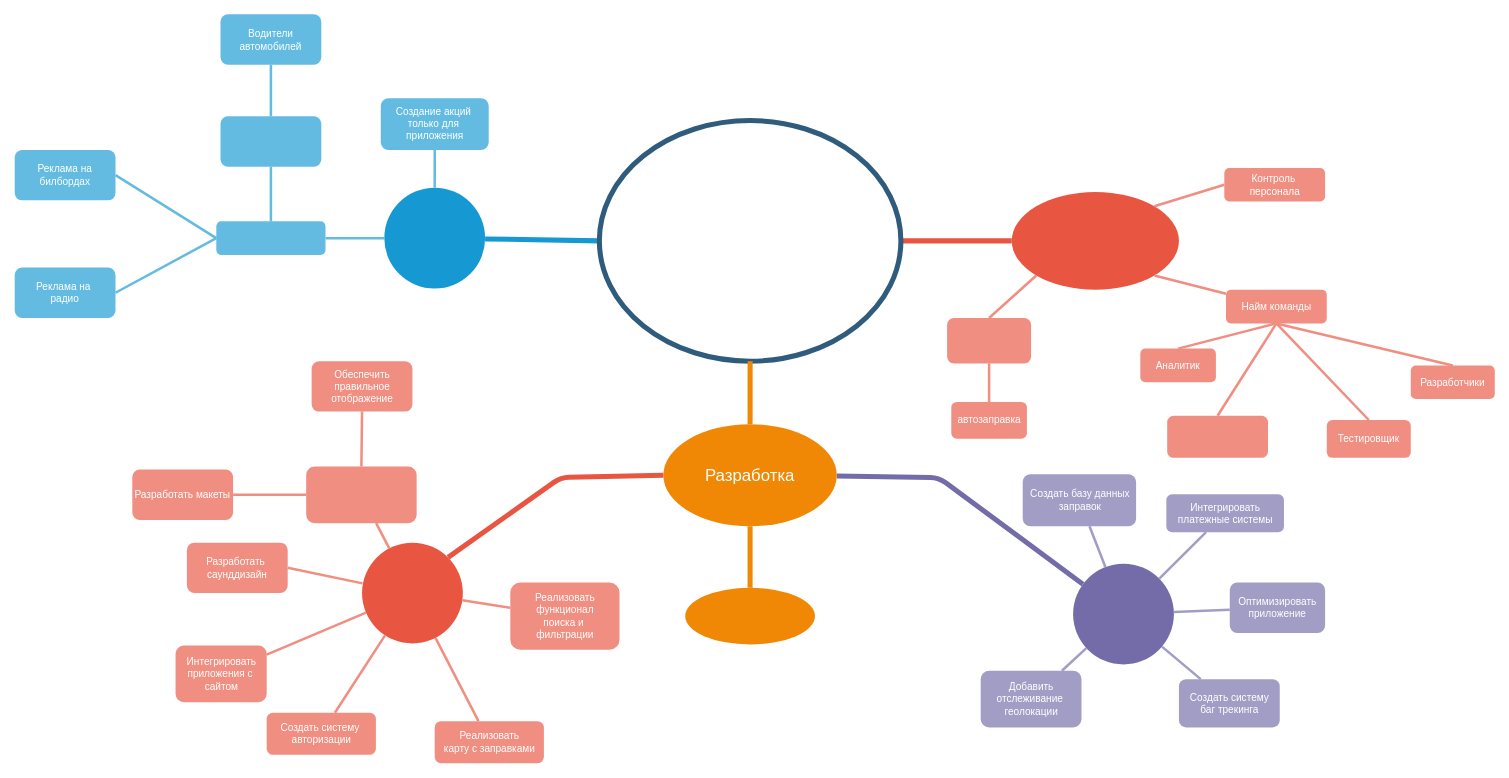
This 1509x778 diagram has some shape labels left out. The centre of each missing label's shape, as x and y in pixels:
"Администрирование" goes at (x=1095, y=240).
"Бэкенд" goes at (x=1123, y=613).
"Источники финансирования" goes at (x=989, y=340).
"Найм PR агенства" goes at (x=270, y=238).
"Приложение для автозаправочной станции" goes at (x=749, y=240).
"проект-менеджер" goes at (x=1217, y=436).
"Реклама" goes at (x=434, y=237).
"Создать визуал приложения" goes at (x=361, y=494).
"Таргетирование" goes at (x=270, y=141).
"Тестировка" goes at (x=750, y=615).
"Фронтенд" goes at (x=412, y=592).
